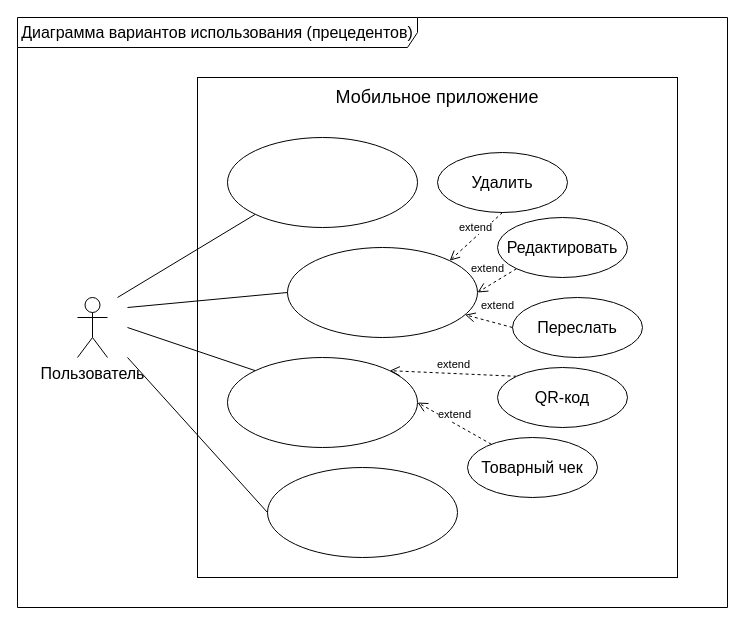
This 745x625 diagram has some shape labels left out. Here are the shapes that lost their labels. From the top down, the centre of each, then its label:
[322,182]: Аутентификация
[382,292]: Работа со списком покупок
[322,402]: Сфотографировать
[362,512]: Формирование отчетов и аналитики
